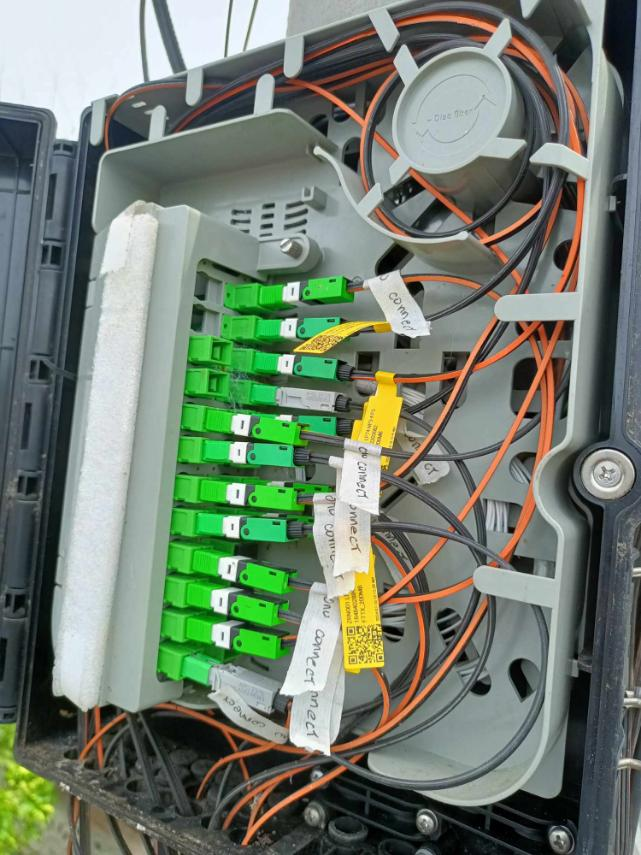no dust cap: (223, 631, 245, 664), (206, 369, 229, 399), (211, 337, 234, 366), (250, 440, 267, 469)
no port: (193, 270, 224, 307), (190, 303, 223, 337)
occupied: (176, 650, 295, 721), (191, 546, 301, 596), (185, 581, 291, 628), (186, 613, 288, 660), (192, 511, 311, 545), (206, 409, 309, 448), (236, 475, 341, 511), (198, 478, 303, 513), (204, 441, 314, 473), (254, 351, 357, 385), (251, 382, 351, 416), (260, 275, 358, 308), (255, 316, 357, 345), (251, 414, 353, 442), (235, 512, 316, 541)
vacant: (228, 570, 256, 595), (227, 593, 248, 624), (233, 543, 260, 567)
